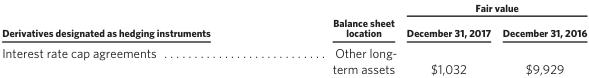table: (1, 0, 586, 75)
table column: (1, 0, 270, 75), (270, 0, 401, 75), (401, 0, 495, 75), (495, 0, 586, 75)
table column header: (1, 0, 586, 41)
table row: (1, 41, 586, 75), (1, 19, 586, 41), (1, 0, 586, 19)
table spanning cell: (1, 0, 270, 41), (270, 0, 401, 41), (401, 0, 586, 19)
